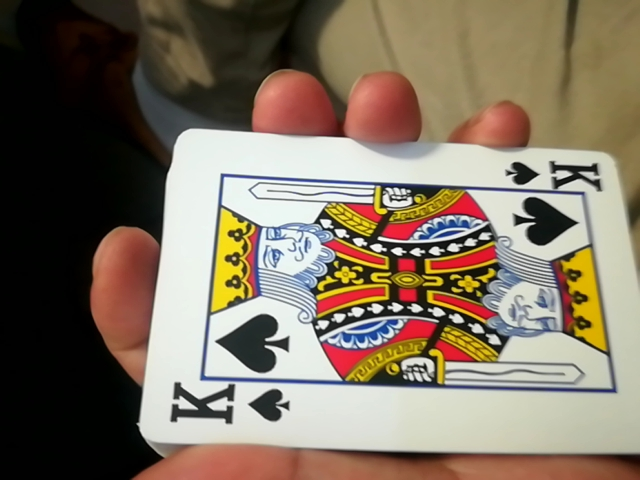ht k: (122, 121, 630, 469)
